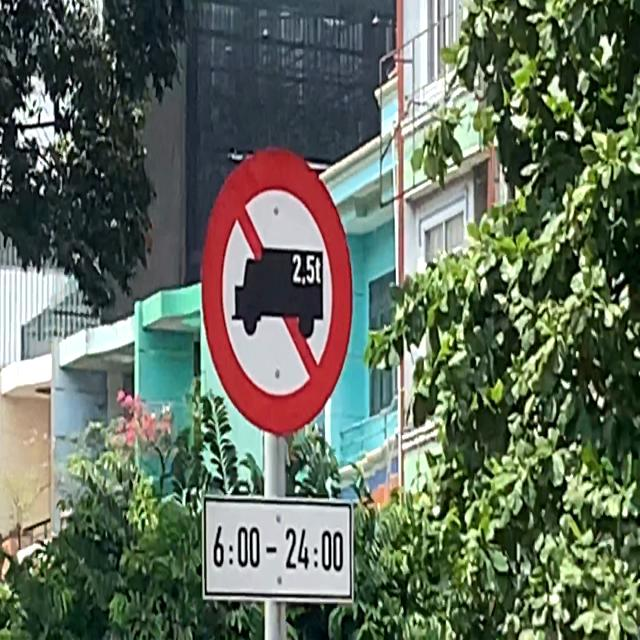Cam xe tai tren 2_5: (200, 128, 363, 441)
